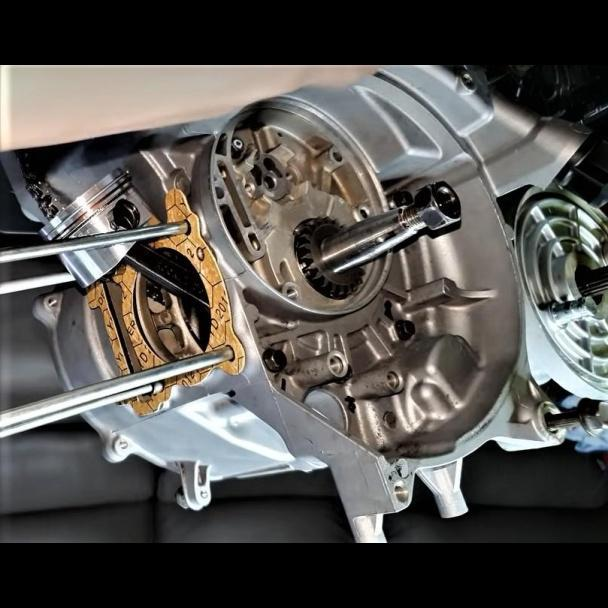hole: (324, 349, 349, 376), (384, 365, 403, 394), (390, 480, 410, 505), (281, 281, 301, 303)
